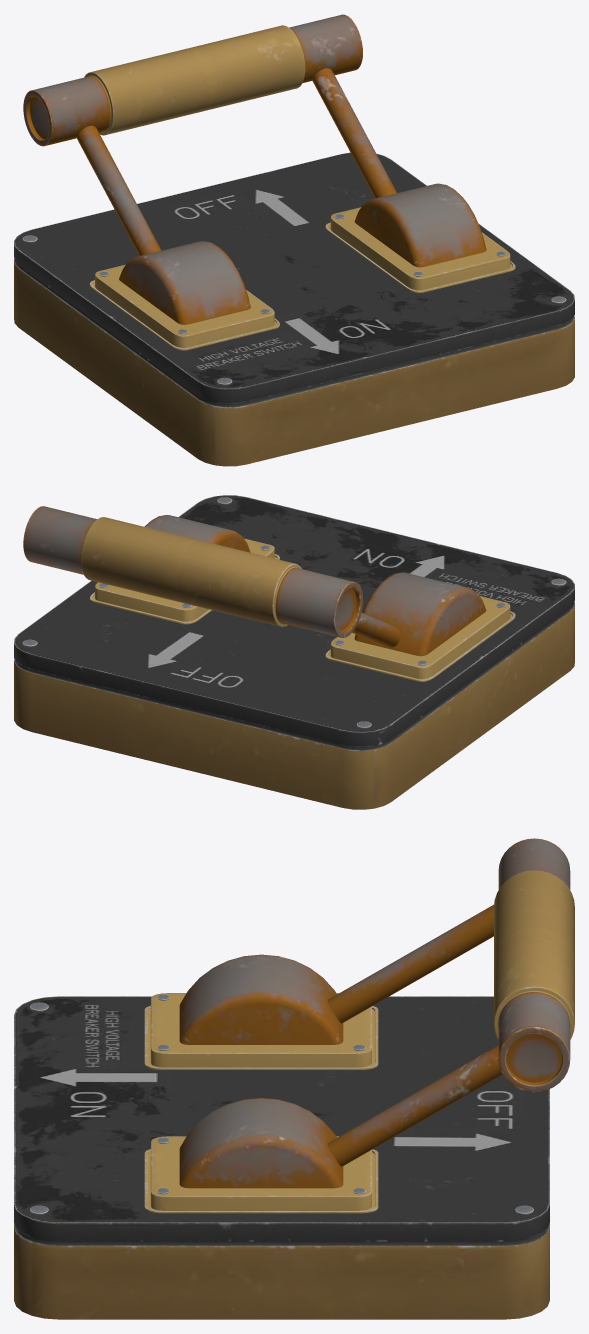
The model's file is switch-transformed.glb.
3 views of the same model, one above another, from view 1: azimuth 30°, elevation 25°; view 2: azimuth 150°, elevation 25°; view 3: azimuth 270°, elevation 25° (orthographic). The views are drawn at different scales.
Visible parts, largest first — view 1: Plane.001, Cylinder.001; view 2: Plane.001, Cylinder.001; view 3: Plane.001, Cylinder.001.
Boxes of the visible parts, left/top/right/bottom form: Plane.001: left=14, top=152, right=574, bottom=466; Cylinder.001: left=23, top=14, right=486, bottom=324; Plane.001: left=14, top=495, right=574, bottom=809; Cylinder.001: left=23, top=506, right=486, bottom=656; Plane.001: left=14, top=993, right=549, bottom=1319; Cylinder.001: left=179, top=838, right=574, bottom=1188.
Size of the model in its own units: 2 by 1.14 by 2.09.
Materials: 1 (1 with a texture image).
